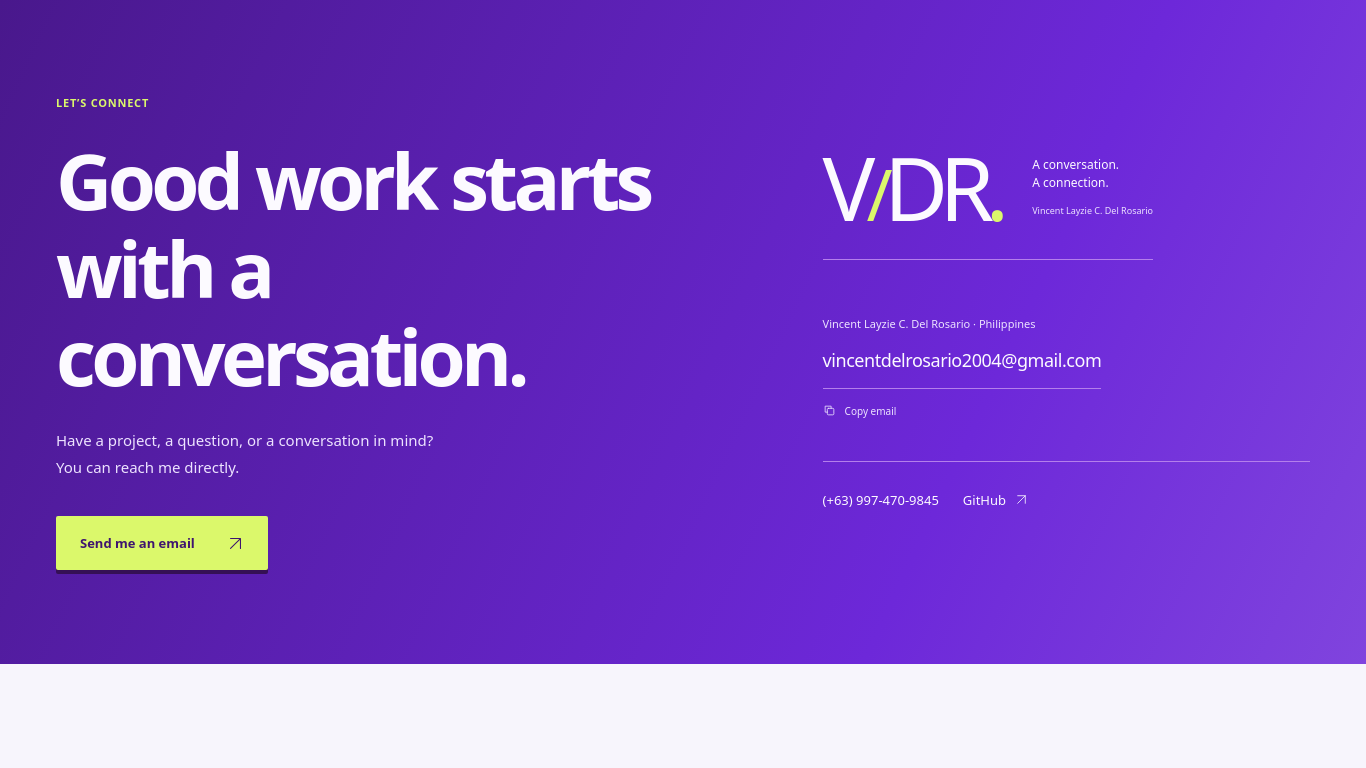
Scenario: Direct contact › reports clipboard success only after the write resolves
Click the button "Copy email": (860, 411) [823,389,896,433]
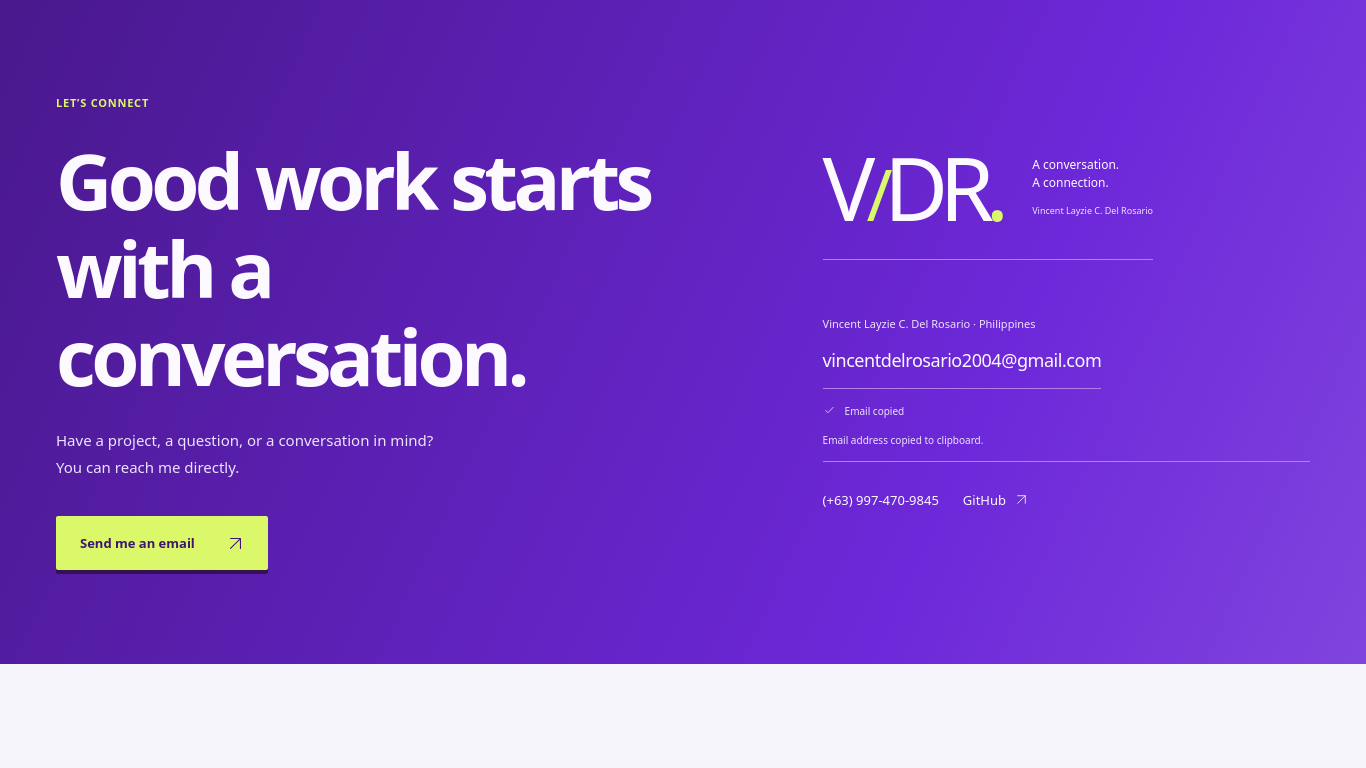
Expected: the button "Email copied" is shown, [823,389,904,433]
